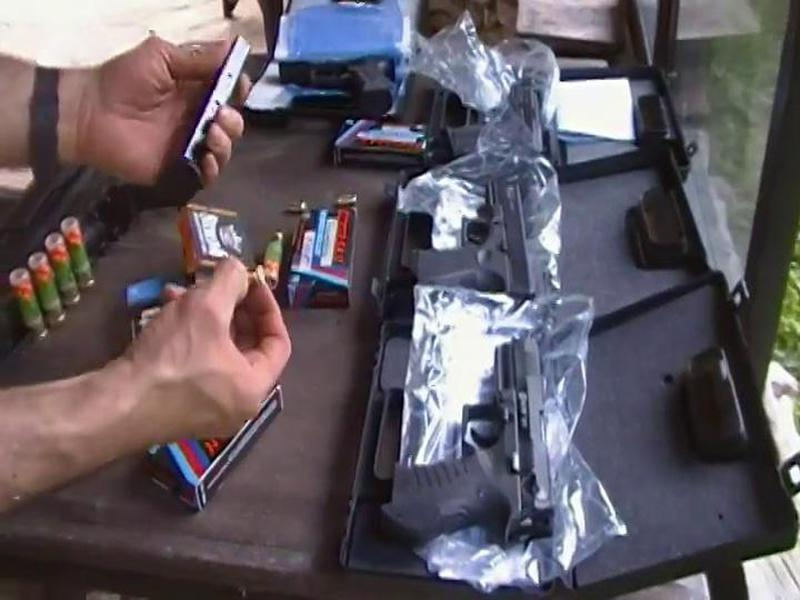Pistola: (377, 328, 568, 555), (402, 170, 549, 319)
